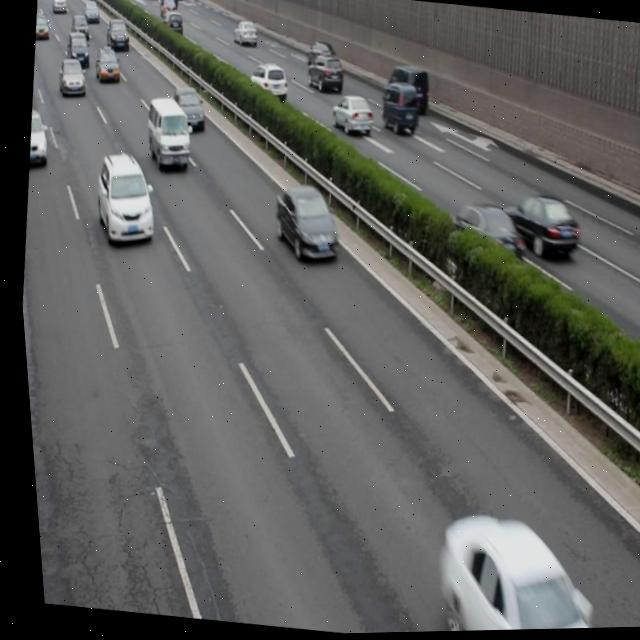car: (417, 508, 614, 633), (86, 151, 159, 249), (264, 182, 341, 266), (437, 199, 526, 269), (494, 193, 578, 262), (374, 80, 420, 140), (327, 96, 372, 139), (244, 61, 288, 104), (301, 52, 344, 95), (168, 86, 206, 130), (23, 107, 51, 165), (55, 59, 87, 100), (302, 39, 337, 75), (91, 45, 122, 83), (63, 31, 91, 66), (104, 17, 131, 53), (228, 20, 259, 51), (158, 11, 185, 38), (69, 14, 90, 41), (33, 11, 52, 40), (82, 0, 101, 25), (156, 0, 177, 21)
truck: (138, 94, 194, 173), (380, 65, 430, 114)
